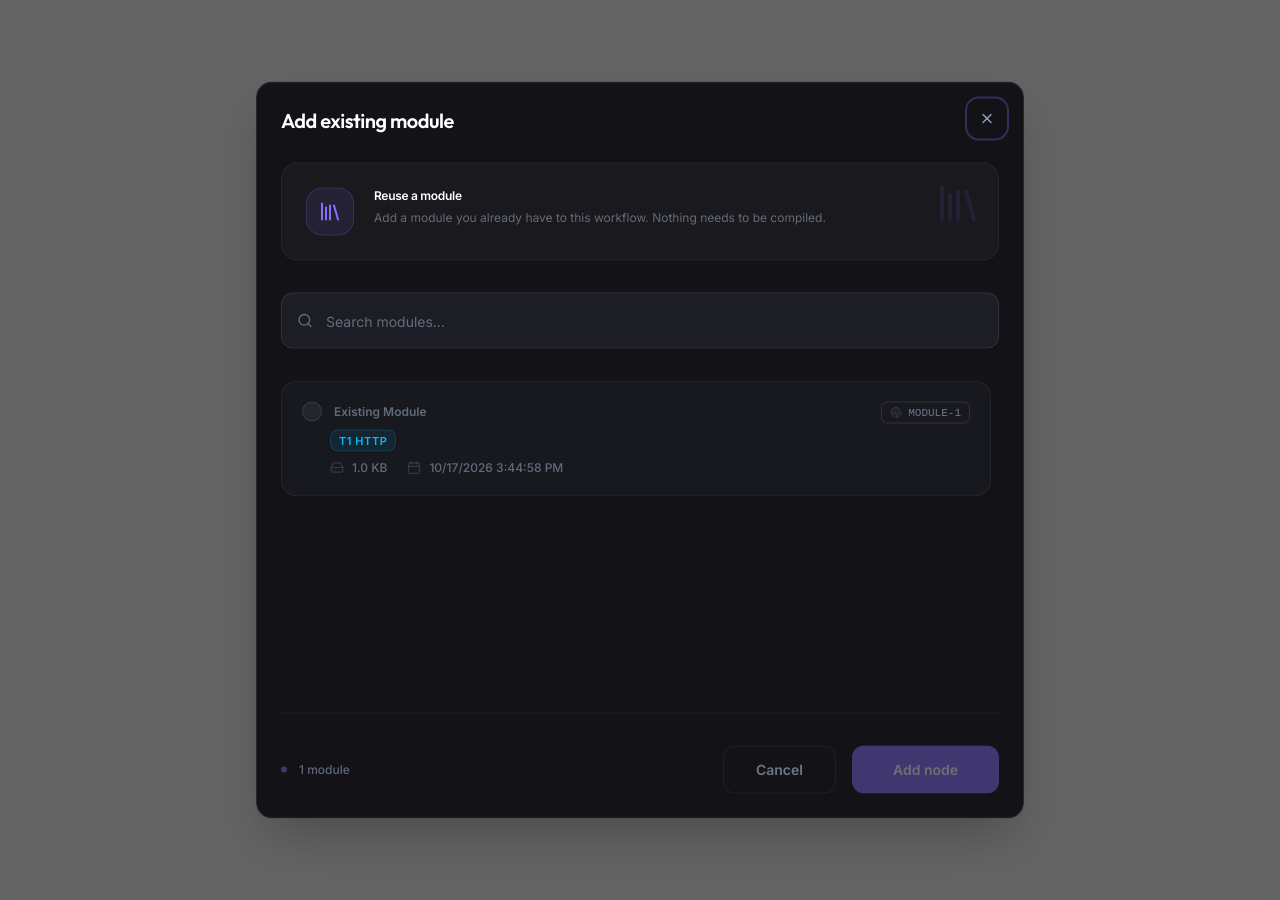
AddExistingNodeDialog › filters modules by search query
Check: the text "Existing Module" is shown, box [334,406,426,418]
Type "Something Else" into the field with placeholder "Search modules…" at (640, 320), box [281,292,999,348]
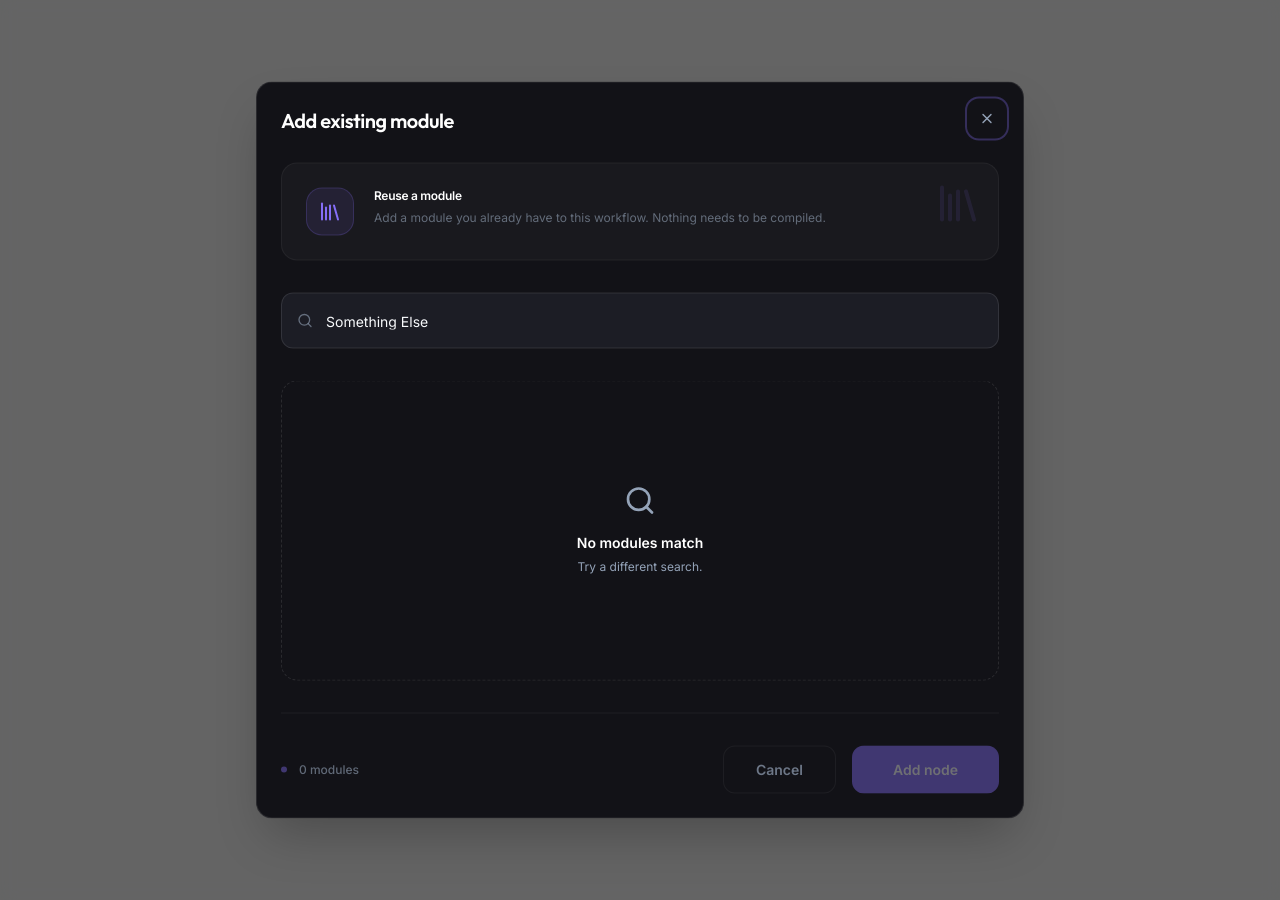
Check: the text "No modules match" is shown, box [577,533,703,553]
